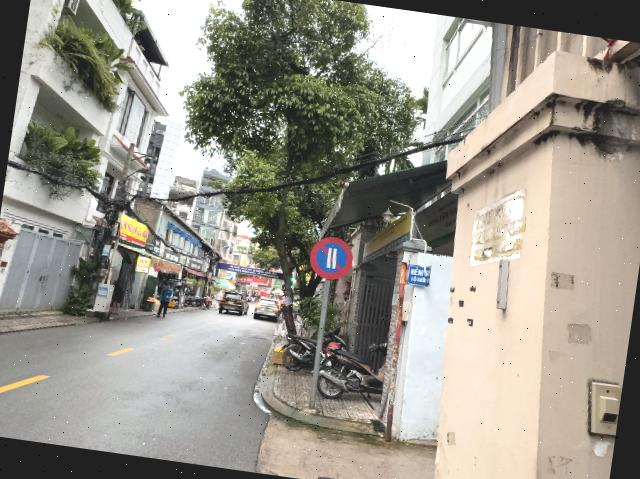cam-do-xe-ngay-chan: (306, 234, 356, 284)
